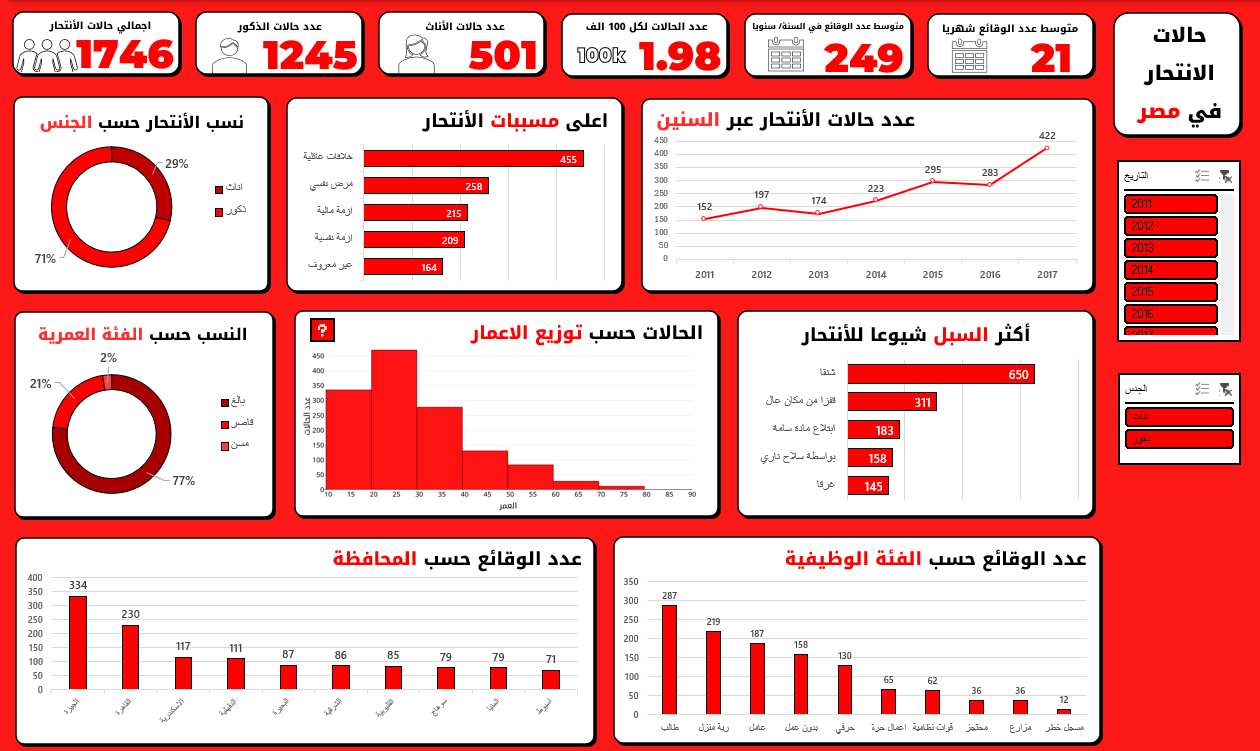

This screenshot's page, from the dashboard's own definition file:
{"tool":"powerbi","page":{"name":"Home","canvas":[1425,1150],"ordinal":0},"visuals":[{"type":"shape","box":[1313.3,73.9,51.1,51.1],"z":0},{"type":"shape","box":[113,125,400,175],"z":1000},{"type":"shape","box":[513,125,400,175],"z":2000},{"type":"shape","box":[915,125,400,175],"z":3000},{"type":"textbox","box":[62,22,466,64],"z":4000},{"type":"textbox","box":[46.7,73.9,580,42.2],"z":5000},{"type":"shape","box":[41.7,811.7,826.7,325],"z":6000},{"type":"shape","box":[42,308,826,170],"z":7000},{"type":"shape","box":[868,686,514,450],"z":8000},{"type":"shape","box":[868,308,514,378],"z":9000},{"type":"cardVisual","fields":{"Data":["CountNonNull(Sheet1.Index)"]},"box":[256.7,148.3,240,126.7],"z":10000},{"type":"cardVisual","fields":{"Data":["CountNonNull(Sheet1.Gender)"]},"box":[1062.2,148.3,239.4,126.7],"z":11000},{"type":"cardVisual","fields":{"Data":["CountNonNull(Sheet1.Gender)"]},"box":[651.7,148.3,243.3,126.7],"z":12000},{"type":"shape","box":[41.7,478.3,826.7,333.3],"z":13000},{"type":"shape","box":[555.7,171.4,85.7,85.7],"z":14000},{"type":"areaChart","fields":{"Category":["Sheet1.the date"],"Y":["CountNonNull(Sheet1.the date)"]},"box":[71.7,526.7,770,265],"z":15000},{"type":"textbox","box":[81.7,498.3,326.7,56.7],"z":16000},{"type":"hundredPercentStackedBarChart","fields":{"Series":["Sheet1.Gender"],"Y":["CountNonNull(Sheet1.Gender)"]},"box":[82,328,746,170],"z":17000},{"type":"textbox","box":[82,328,296,54],"z":18000},{"type":"donutChart","fields":{"Category":["Sheet1.The age group"],"Y":["CountNonNull(Sheet1.The age group)"]},"box":[884,366,484,306],"z":19000},{"type":"textbox","box":[81.7,831.7,266.7,50],"z":20000},{"type":"textbox","box":[898,710,302,64],"z":21000},{"type":"textbox","box":[898,336,318,58],"z":22000},{"type":"image","box":[561.4,175.7,74.3,78.6],"z":23000},{"type":"columnChart","fields":{"Category":["Sheet1.The reason for suicide"],"Y":["CountNonNull(Sheet1.The reason for suicide)"]},"box":[68.3,878.3,780,240],"z":24000},{"type":"barChart","fields":{"Category":["Sheet1.Territories"],"Y":["CountNonNull(Sheet1.Territories)"]},"box":[882,758,486,360],"z":25000},{"type":"shape","box":[49.2,124.9,68.1,175.1],"z":26000},{"type":"shape","box":[1312,125,69,175],"z":27000},{"type":"shape","box":[964.3,171.4,85.7,85.7],"z":28000},{"type":"shape","box":[160,171.4,85.7,85.7],"z":29000},{"type":"image","box":[154.3,167.1,97.1,92.9],"z":30000},{"type":"image","box":[970,175.7,72.9,78.6],"z":31000},{"type":"shape","box":[1033.5,21.6,107,43.2],"z":32000},{"type":"shape","box":[1260,21.7,106.7,43.3],"z":33000},{"type":"actionButton","box":[1321,134.7,51.7,155.7],"z":42000},{"type":"image","box":[1314,77.8,50.3,42.1],"z":44000},{"type":"shape","box":[1147,21.6,106.5,43.2],"z":60000}]}

Visuals, with their boxes on the page's 1425x1150 design canvas (x1, y1, x2, y2). These are canvas units, not pixel positions in the 1260x751 screenshot, which may show the page scaled, cropped or inside an application window:
shape: region(1313, 74, 1364, 125)
shape: region(113, 125, 513, 300)
shape: region(513, 125, 913, 300)
shape: region(915, 125, 1315, 300)
textbox: region(62, 22, 528, 86)
textbox: region(47, 74, 627, 116)
shape: region(42, 812, 868, 1137)
shape: region(42, 308, 868, 478)
shape: region(868, 686, 1382, 1136)
shape: region(868, 308, 1382, 686)
cardVisual - CountNonNull(Sheet1.Index): region(257, 148, 497, 275)
cardVisual - CountNonNull(Sheet1.Gender): region(1062, 148, 1302, 275)
cardVisual - CountNonNull(Sheet1.Gender): region(652, 148, 895, 275)
shape: region(42, 478, 868, 812)
shape: region(556, 171, 641, 257)
areaChart - Sheet1.the date x CountNonNull(Sheet1.the date): region(72, 527, 842, 792)
textbox: region(82, 498, 408, 555)
hundredPercentStackedBarChart - Sheet1.Gender x CountNonNull(Sheet1.Gender): region(82, 328, 828, 498)
textbox: region(82, 328, 378, 382)
donutChart - Sheet1.The age group x CountNonNull(Sheet1.The age group): region(884, 366, 1368, 672)
textbox: region(82, 832, 348, 882)
textbox: region(898, 710, 1200, 774)
textbox: region(898, 336, 1216, 394)
image: region(561, 176, 636, 254)
columnChart - Sheet1.The reason for suicide x CountNonNull(Sheet1.The reason for suicide): region(68, 878, 848, 1118)
barChart - Sheet1.Territories x CountNonNull(Sheet1.Territories): region(882, 758, 1368, 1118)
shape: region(49, 125, 117, 300)
shape: region(1312, 125, 1381, 300)
shape: region(964, 171, 1050, 257)
shape: region(160, 171, 246, 257)
image: region(154, 167, 251, 260)
image: region(970, 176, 1043, 254)
shape: region(1034, 22, 1140, 65)
shape: region(1260, 22, 1367, 65)
actionButton: region(1321, 135, 1373, 290)
image: region(1314, 78, 1364, 120)
shape: region(1147, 22, 1254, 65)
